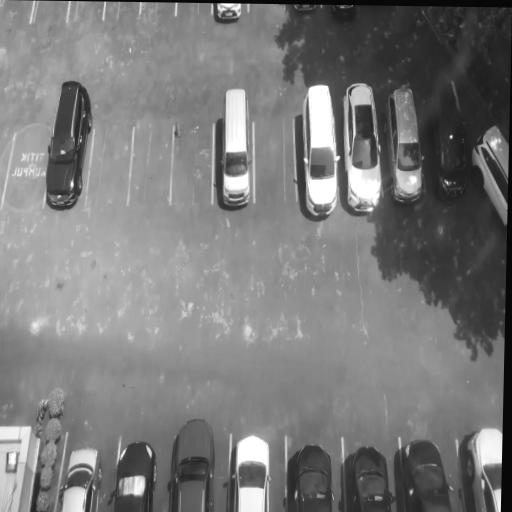Car: (43, 75, 95, 210), (339, 80, 384, 217), (381, 86, 428, 208), (299, 85, 340, 223), (429, 75, 471, 202), (166, 414, 218, 512), (216, 83, 255, 212), (397, 435, 457, 512), (469, 115, 507, 229), (458, 423, 503, 512), (289, 441, 340, 512), (56, 442, 107, 512), (229, 433, 274, 512), (112, 440, 159, 512), (345, 444, 393, 512), (209, 4, 242, 22)
Space Available: (250, 115, 294, 220), (3, 121, 47, 213), (128, 120, 175, 203), (170, 124, 213, 208), (86, 132, 129, 208), (27, 1, 71, 24), (101, 3, 142, 23), (67, 1, 106, 21), (173, 3, 214, 19), (138, 4, 174, 22)
